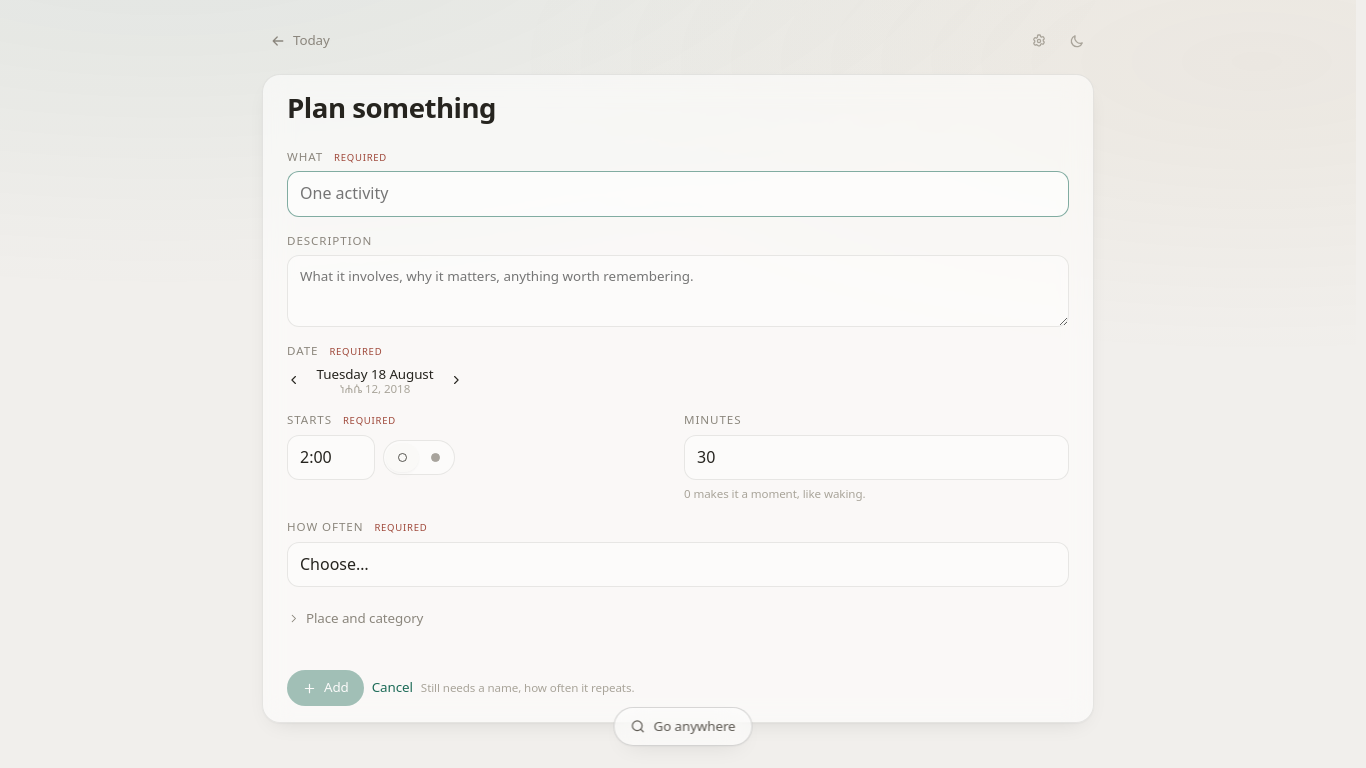
Scenario: pages render › becomes submittable once the requirements are met
Step 1. Type "Read" into the field labelled "What required" → (678, 194), box [287,172,1069,217]
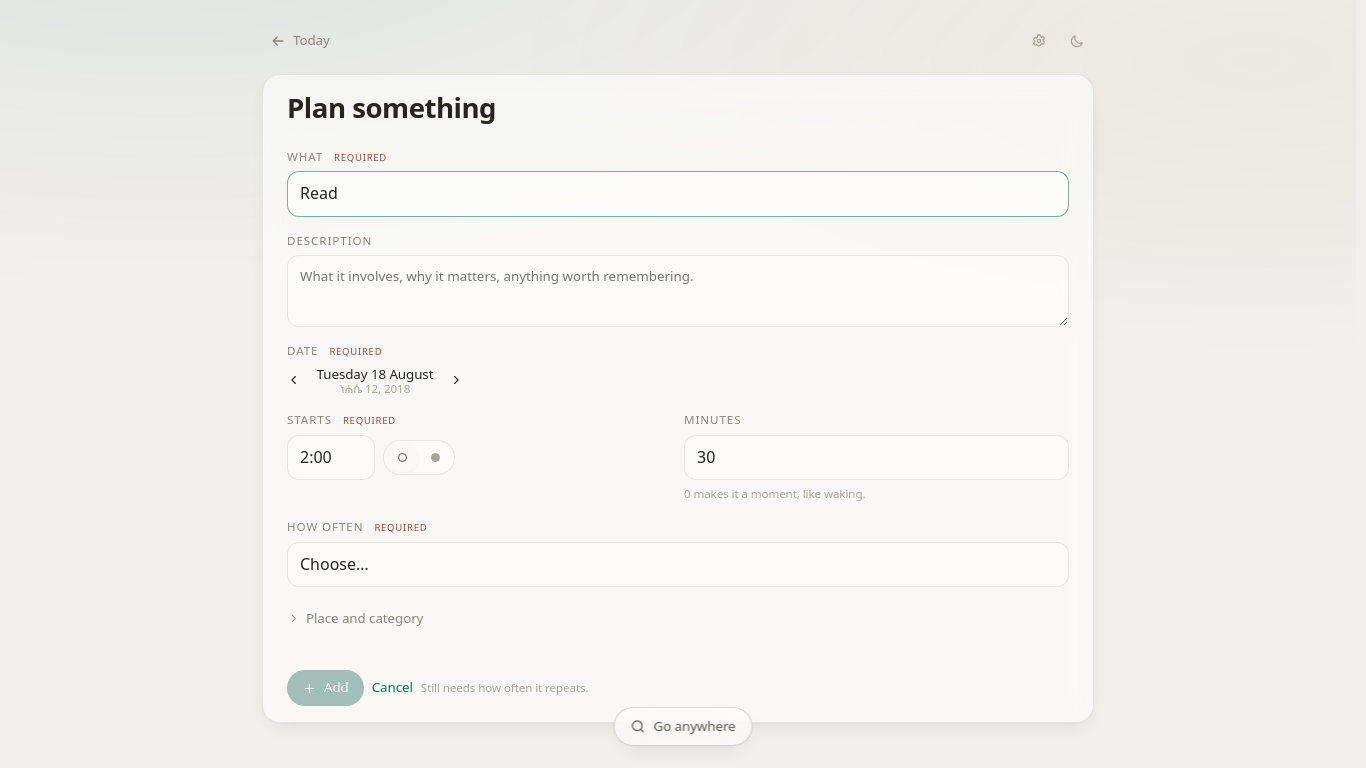
Step 2. Select "Every day" in the dropdown labelled "How often required" → (678, 564), box [287,542,1069,587]
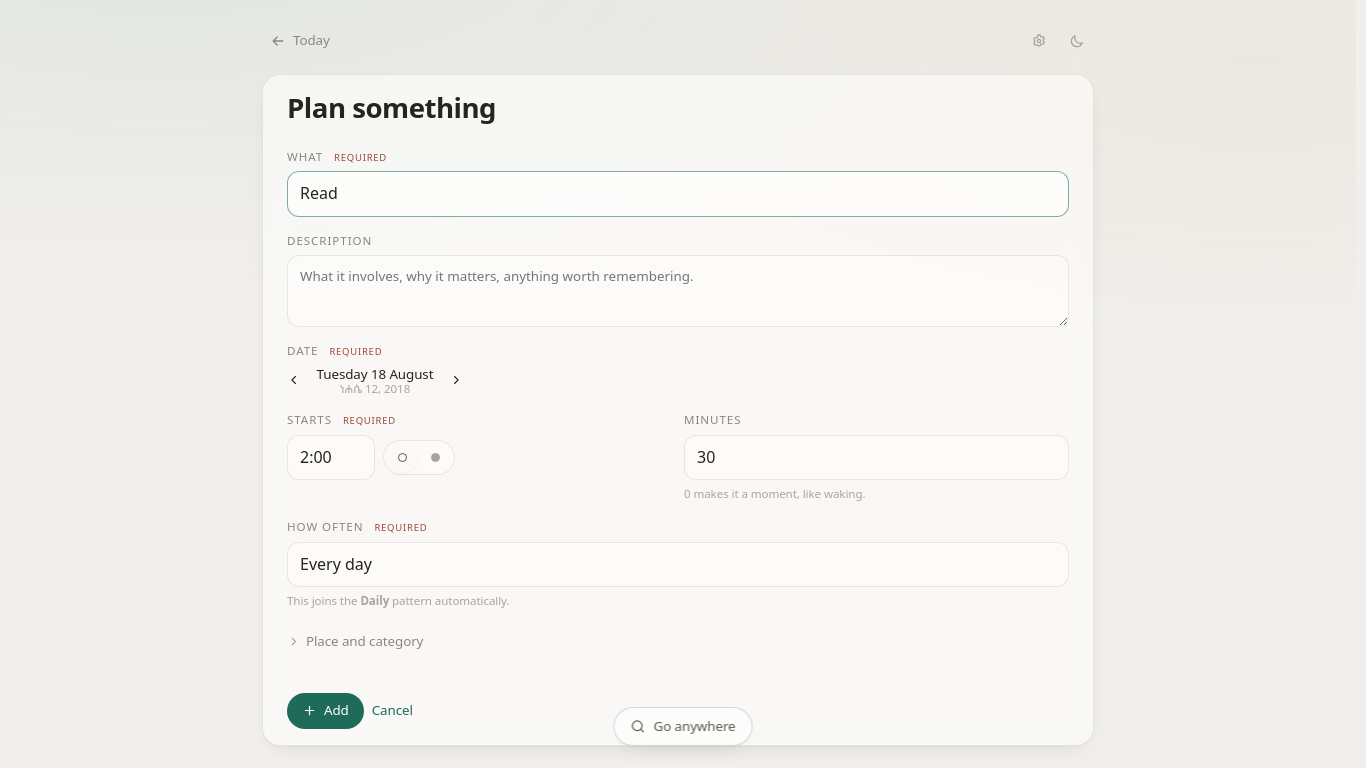
Check: the submit button is enabled, box [287,693,364,729]
